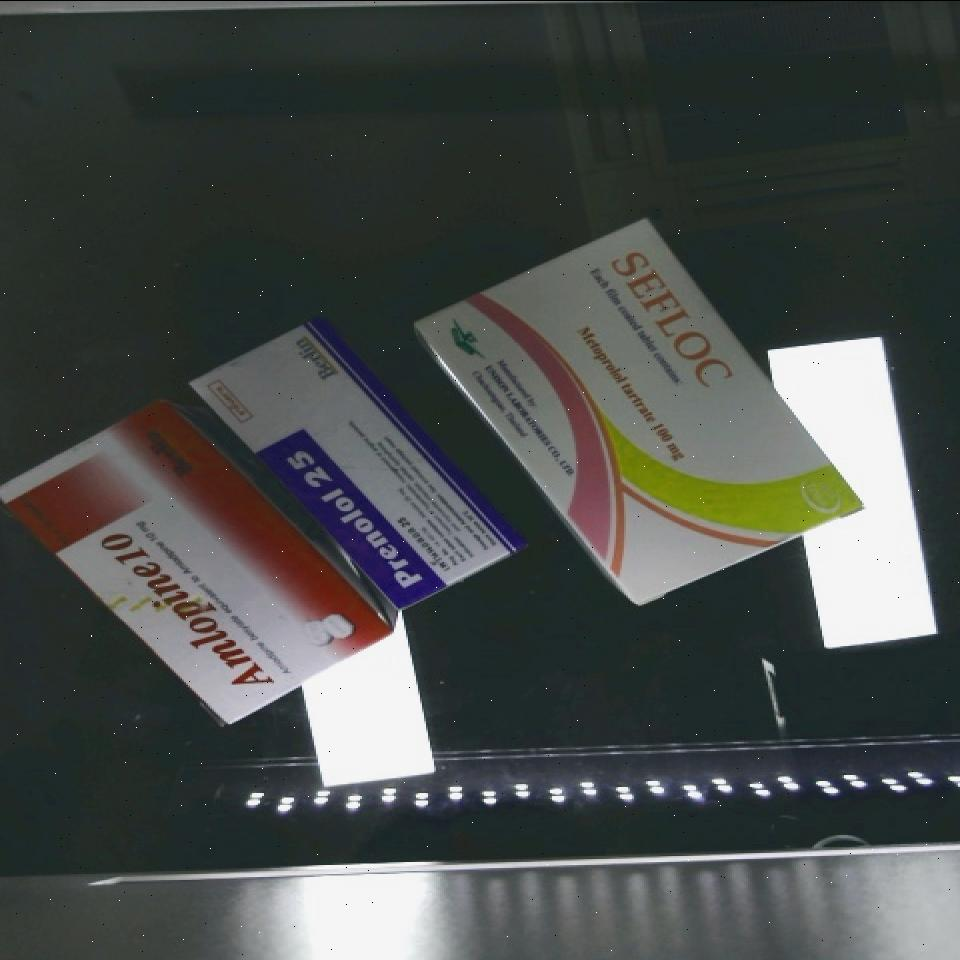medicine_box: (412, 171, 861, 656), (0, 369, 396, 768), (184, 295, 526, 643)
medicine_label_obb: (60, 502, 288, 735), (561, 216, 760, 429), (258, 420, 444, 615)
